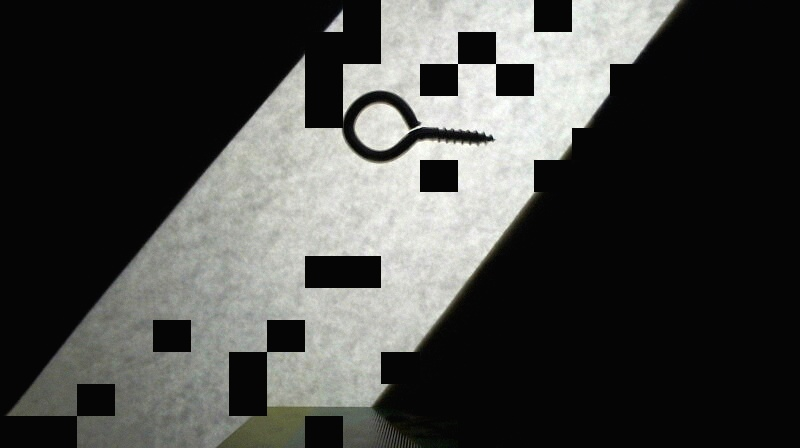O001: (338, 87, 499, 165)
